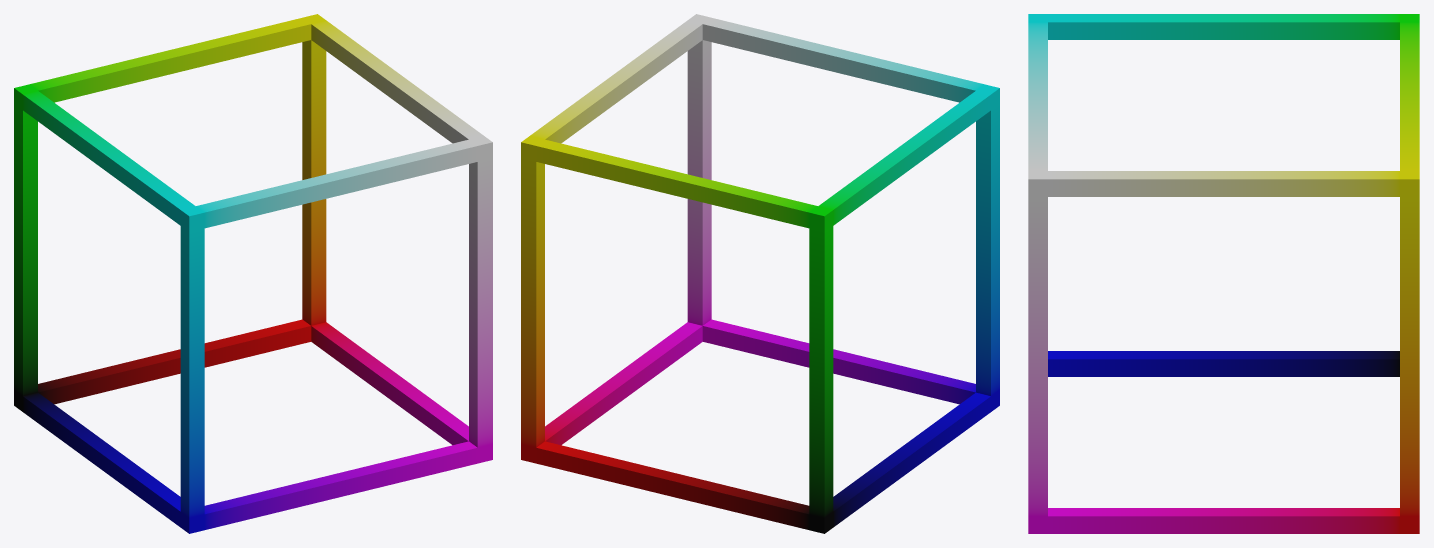
Rendered from color-cube.glb.
3 renders of one model, left to right at view 1: azimuth 30°, elevation 25°; view 2: azimuth 150°, elevation 25°; view 3: azimuth 270°, elevation 25°, orthographic. The views are drawn at different scales.
Visible parts, largest first — view 1: Color Cube; view 2: Color Cube; view 3: Color Cube.
Part boxes in pixels (bbox=[...]): Color Cube: bbox=[14, 14, 492, 533]; Color Cube: bbox=[521, 14, 999, 533]; Color Cube: bbox=[1028, 14, 1419, 533].
Bounding box in the file's own units: 0.6 × 0.6 × 0.6.
